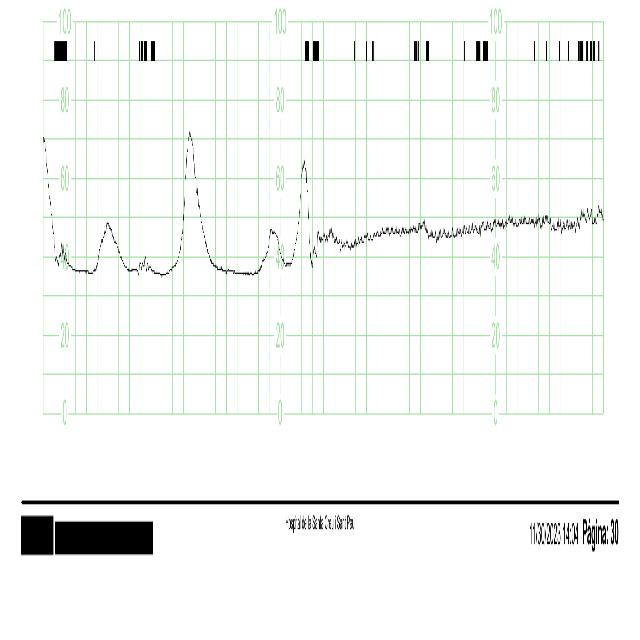contraction: (169, 131, 207, 276), (290, 152, 312, 262), (95, 222, 126, 274), (260, 222, 280, 276)
